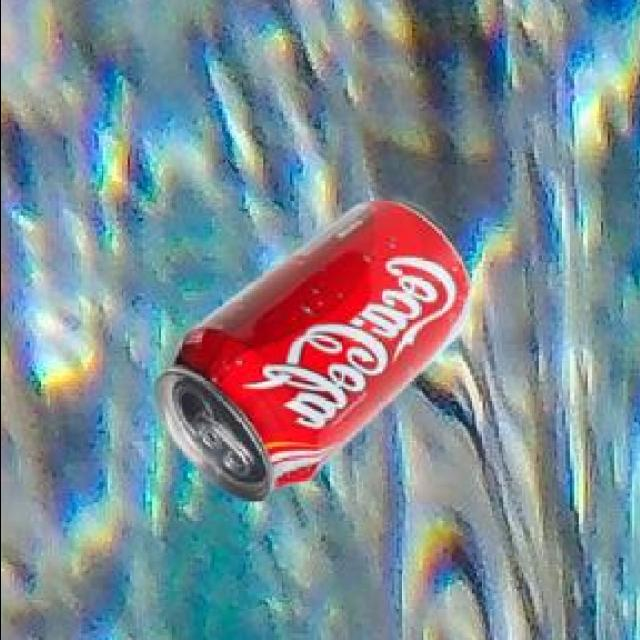logam: (152, 192, 468, 497)
